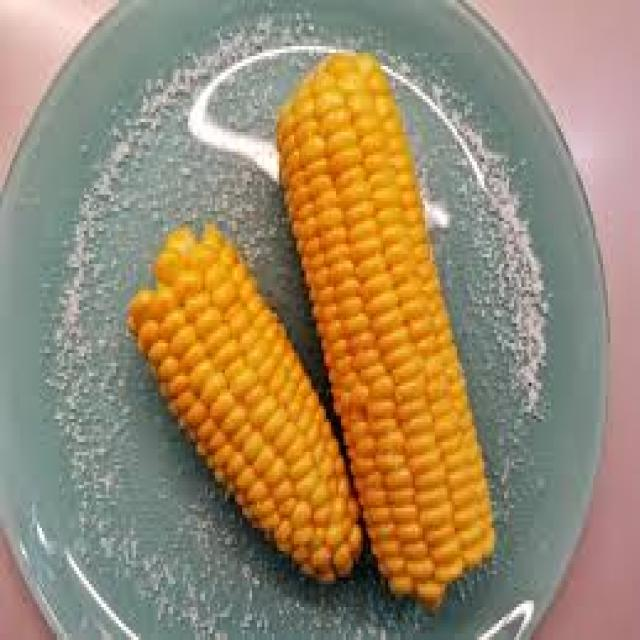corn: (278, 38, 502, 620), (114, 189, 366, 587)
